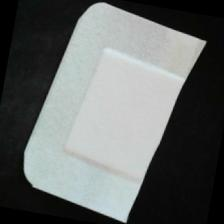Cut: (7, 1, 221, 224)
